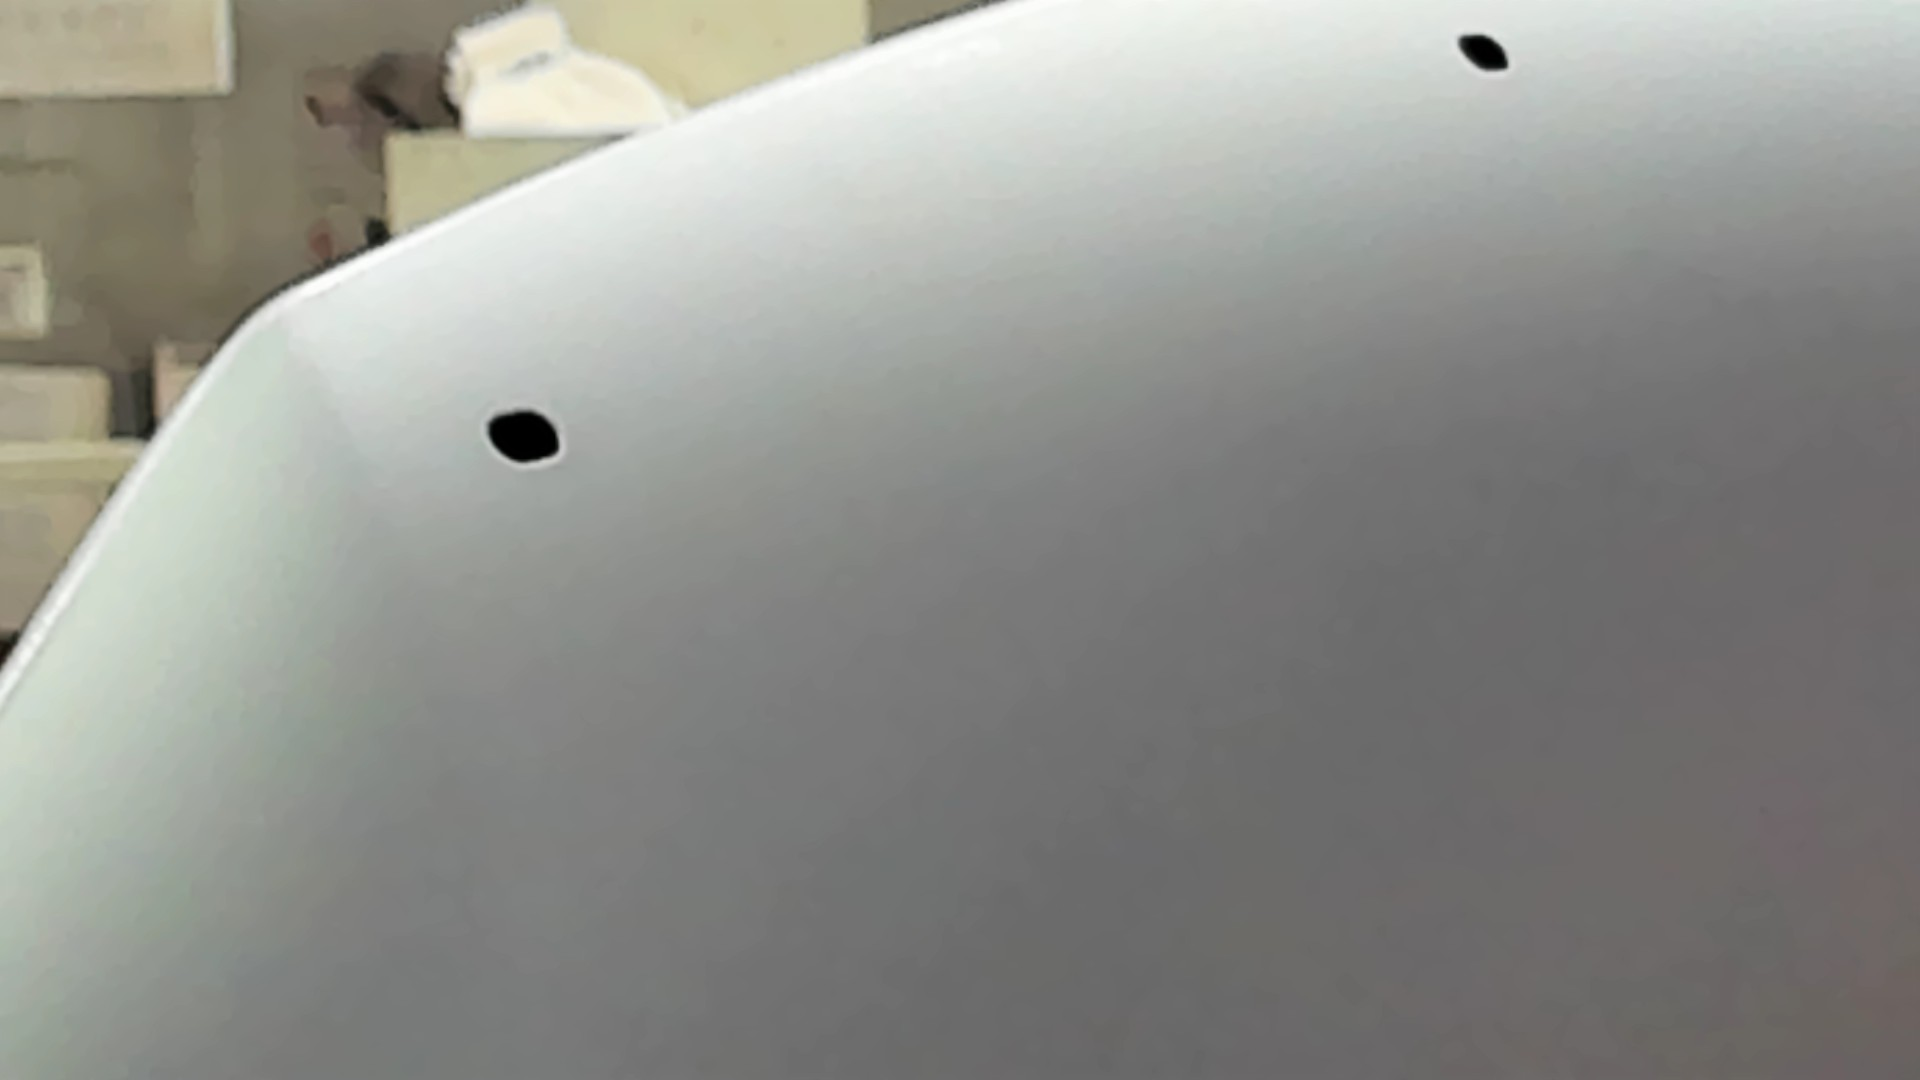amorfo: (483, 405, 566, 468), (1452, 29, 1515, 78)
